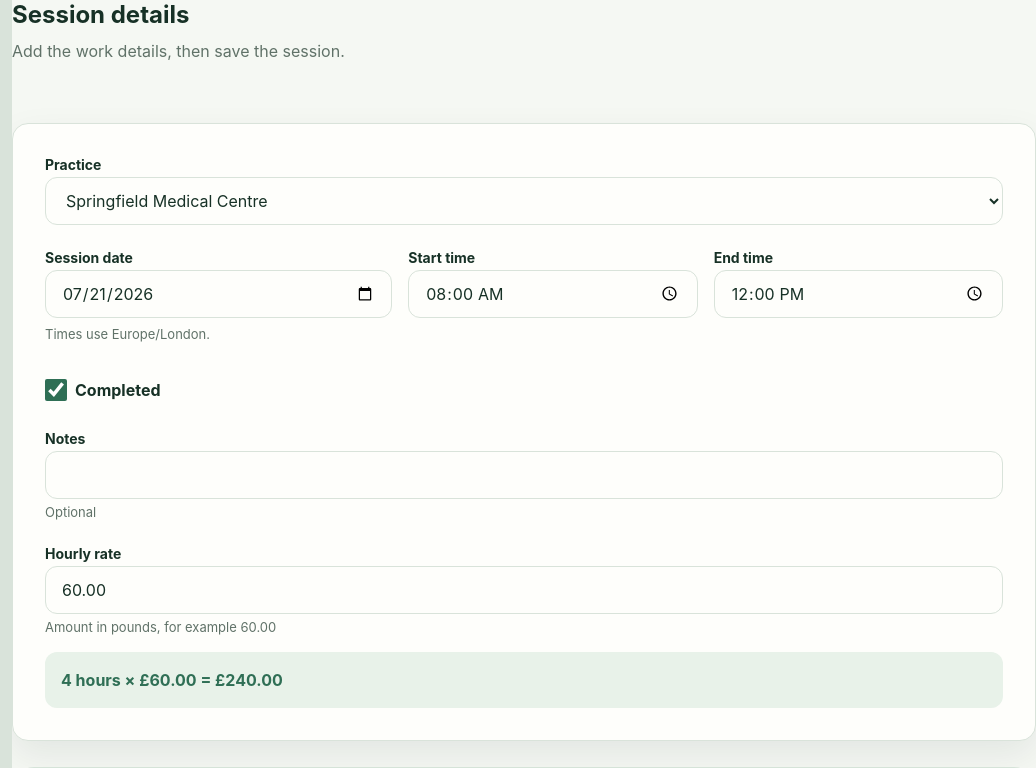
SessionForm › preserves entries and hides raw details when save fails
The image size is (1036, 768).
Type "Keep this note" into the field labelled "Notes".
click(524, 475); type("Keep this note")  # box [45,451,1003,499]
(page scrolled)
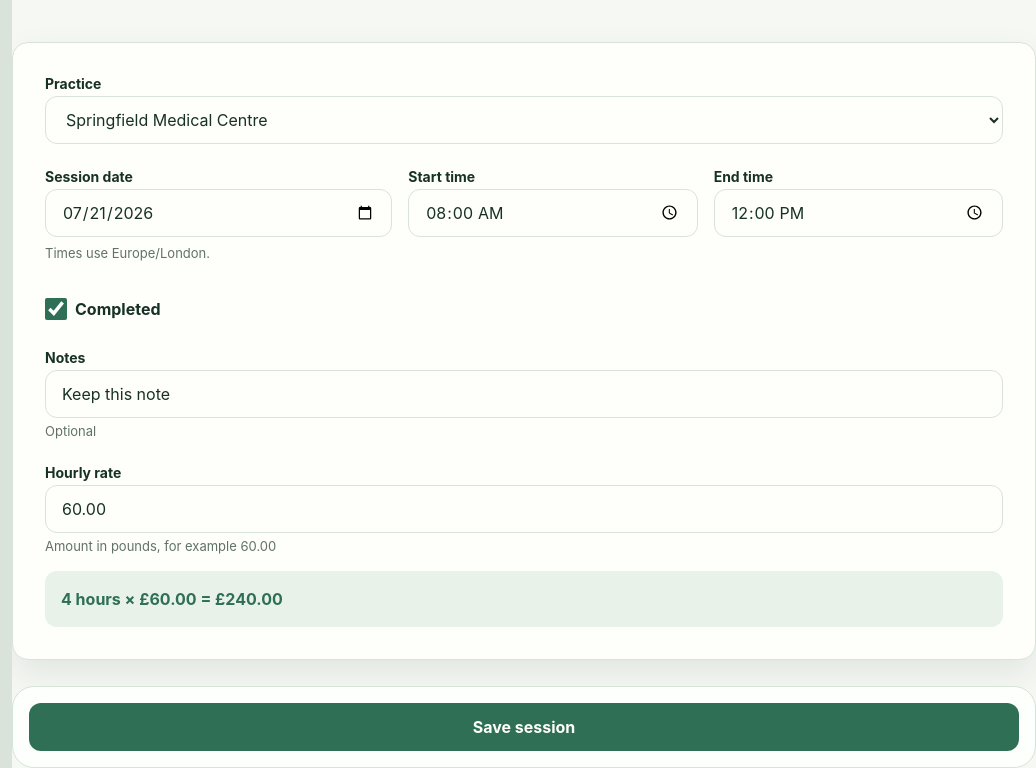
Click the button "Save session".
click(524, 727)  # box [29,703,1019,751]
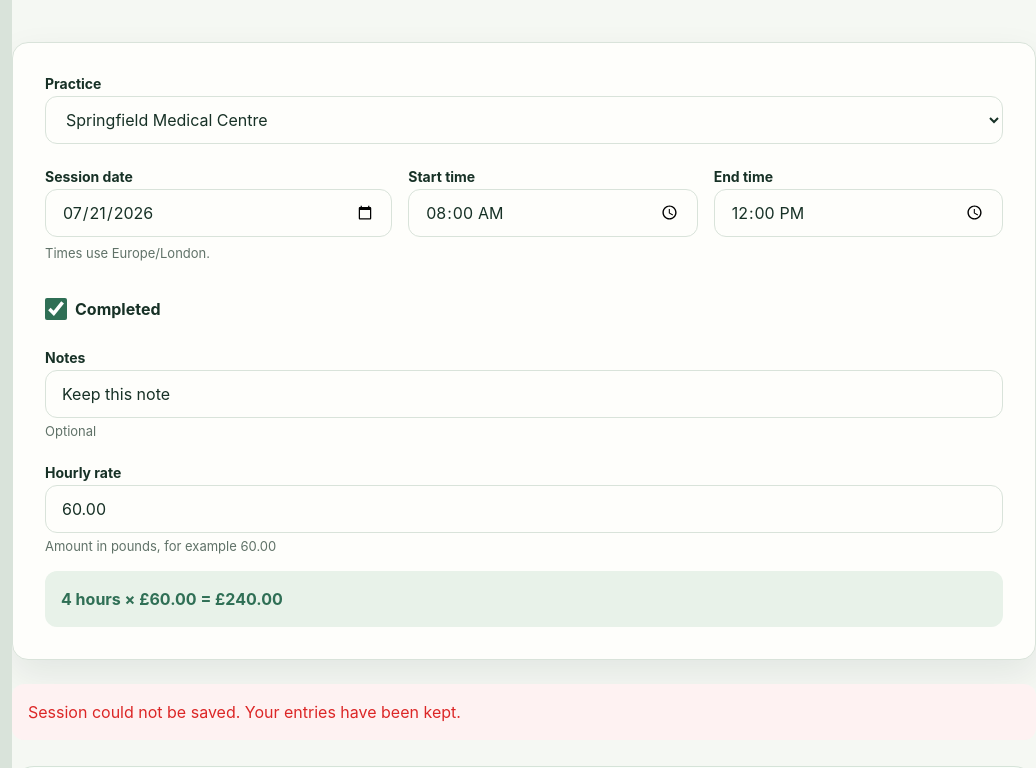
Expected: the message reads "Session could not be saved. Your entries have been kept.", [28,702,461,722]
